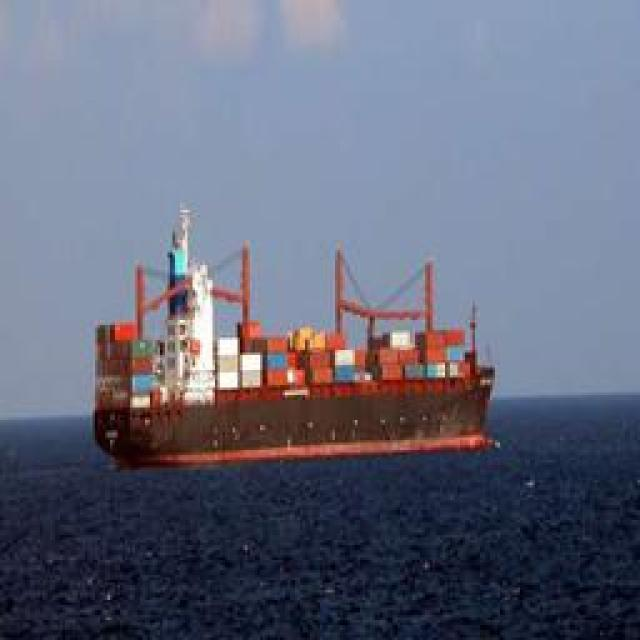CIV_Ship: (89, 212, 496, 468)
